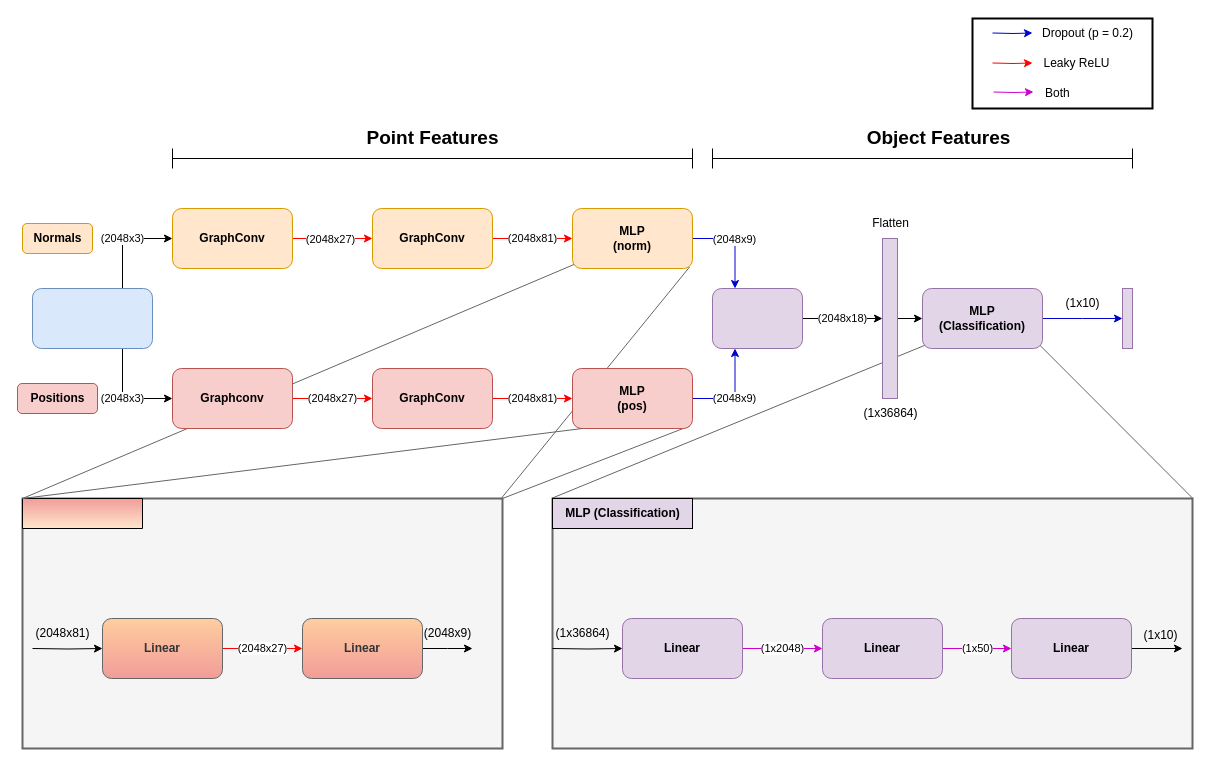
Some shapes in this 1212 by 766 pixel diagram are drawn without their labels. Each missing label, with the centre of its shape:
Concatenation: pixel 757 318
Input (2048x6): pixel 92 318
MLP (norm/pos): pixel 82 513
